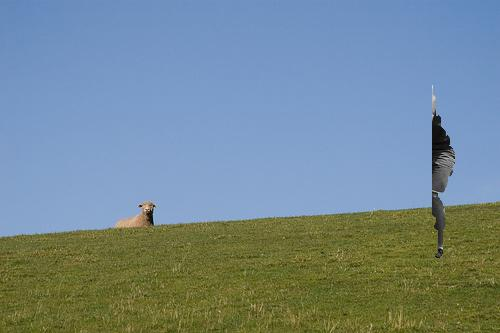tampered: (433, 86, 455, 258)
